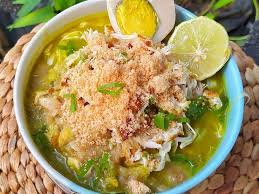Soto: (20, 29, 234, 194)
Telur rebus: (102, 1, 179, 42)
